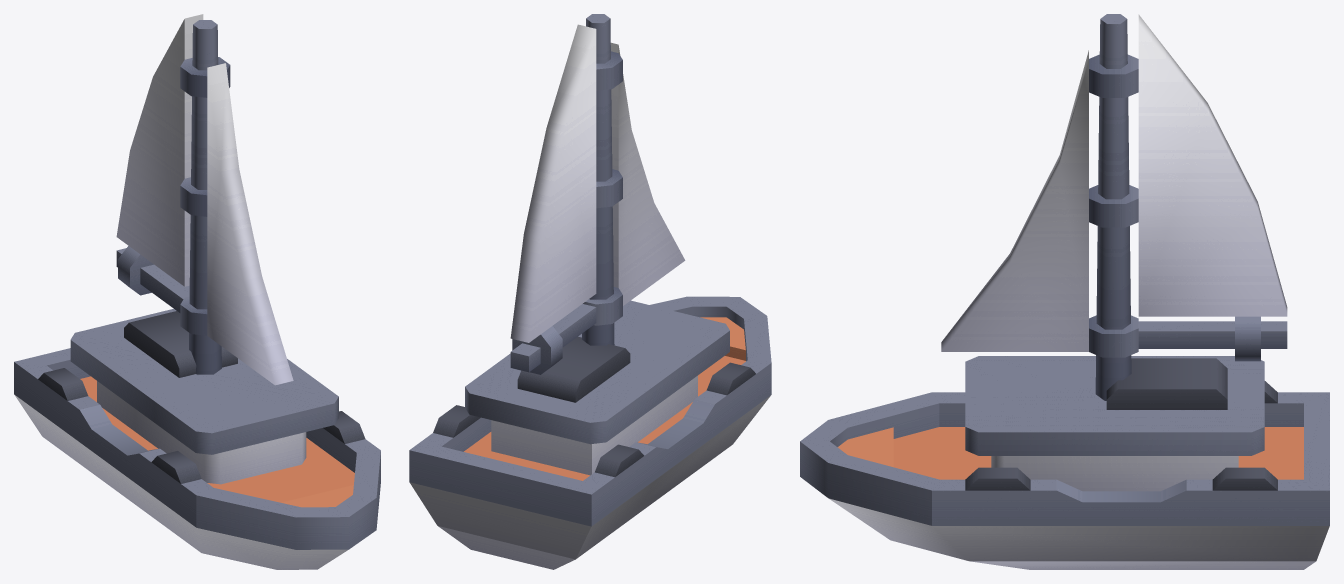
The model's file is boat_sail_b.glb.
3 renders of one model, left to right at view 1: azimuth 30°, elevation 25°; view 2: azimuth 150°, elevation 25°; view 3: azimuth 270°, elevation 25°, orthographic. The views are drawn at different scales.
Visible parts, largest first — view 1: boat-sail-b, sail; view 2: boat-sail-b, sail; view 3: boat-sail-b, sail.
Boxes of the visible parts, x1,y1,x2,y2 form: boat-sail-b: (14,308,380,569); sail: (116,14,293,385); boat-sail-b: (409,296,771,569); sail: (510,14,685,374); boat-sail-b: (800,356,1329,569); sail: (941,14,1287,400).
Bounding box in the file's own units: 1.78 × 4.48 × 4.07.
1 material, 1 textured.
